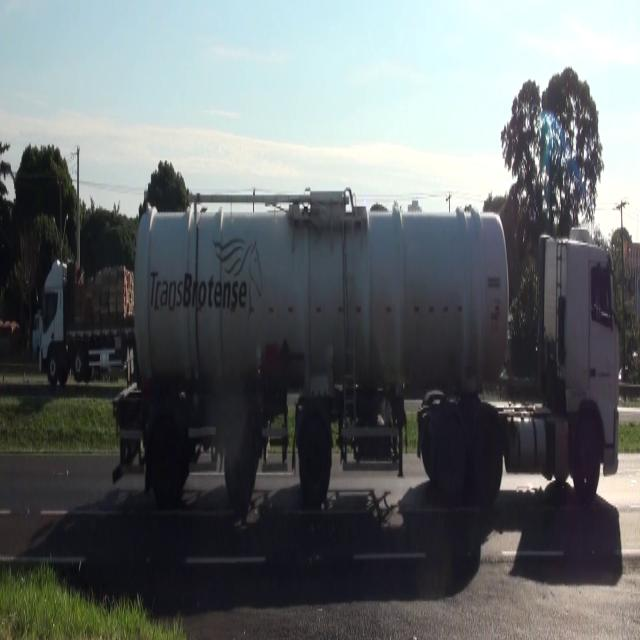-axle: (144, 416, 185, 513), (223, 419, 260, 521), (296, 415, 332, 509), (570, 413, 602, 497), (472, 424, 506, 501), (434, 423, 465, 497)
